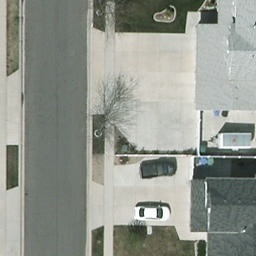car: (140, 157, 178, 179), (135, 204, 174, 222)
